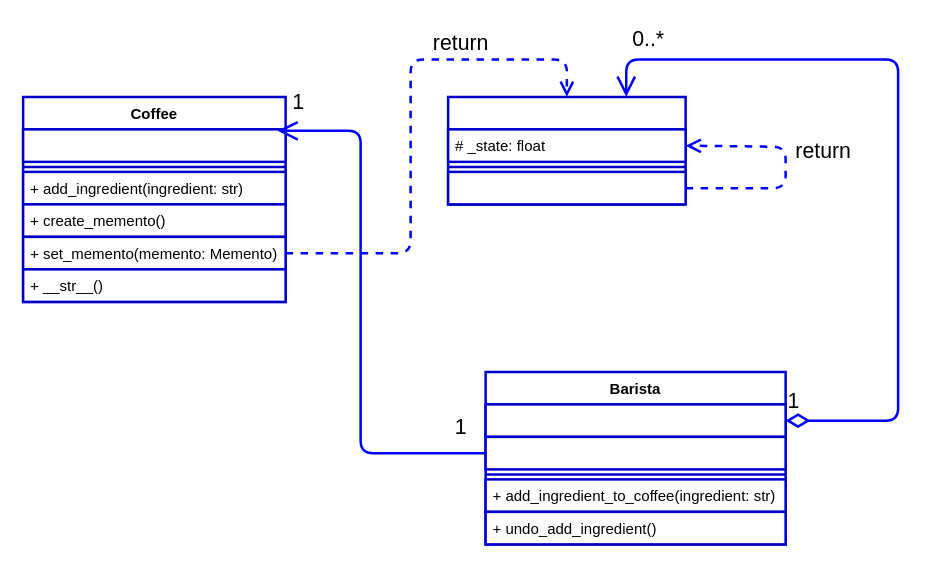
The diagram is 941 pixels wide and 569 high, and some of its shapes have lost their labels. The shapes that lost their labels are listed below. From the top down, each one's box as (x1, y1, x2, y2) in pixels, then its label:
(21, 128, 286, 162): # _state: List[str]
(446, 95, 686, 205): Memento
(446, 170, 686, 205): + get_state(): float
(484, 402, 786, 438): # coffee_states: list[Memento]
(484, 435, 786, 470): # coffee: Coffee
